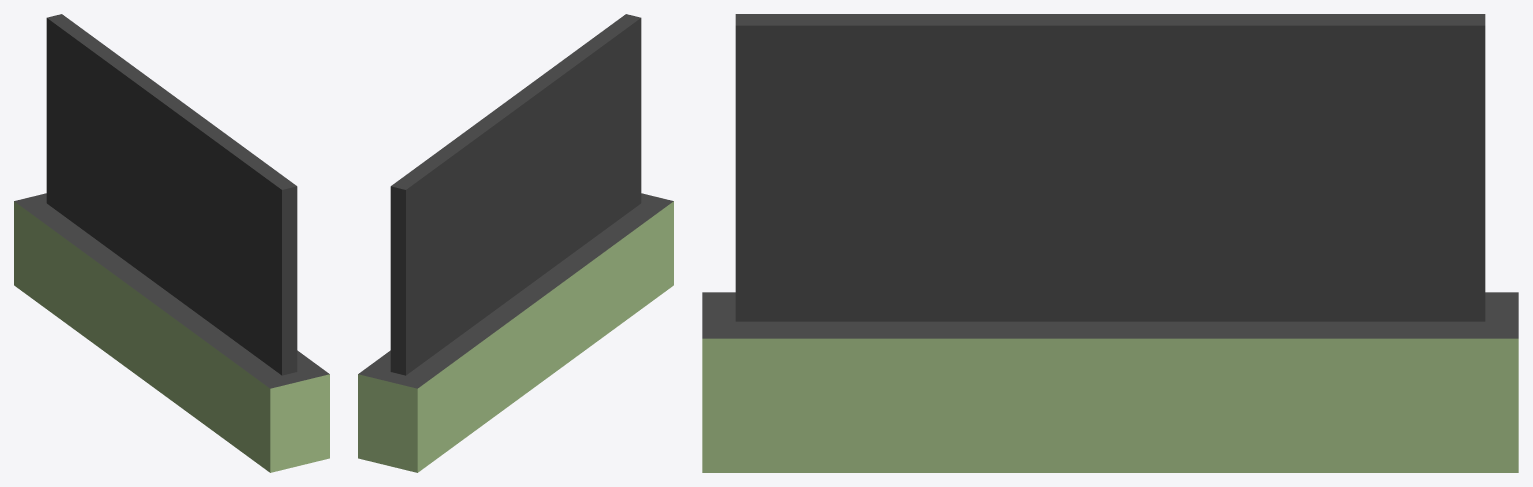
3 views of the same model, side by side, from view 1: azimuth 30°, elevation 25°; view 2: azimuth 150°, elevation 25°; view 3: azimuth 270°, elevation 25° (orthographic). The views are drawn at different scales.
Parts seen in each view (by area): view 1: pCube248, pCube247; view 2: pCube248, pCube247; view 3: pCube248, pCube247.
Part boxes in pixels (x1,y1,x2,y2): pCube248: (46, 14, 297, 375); pCube247: (14, 193, 329, 472); pCube248: (390, 14, 641, 375); pCube247: (358, 193, 673, 472); pCube248: (735, 14, 1485, 321); pCube247: (702, 292, 1518, 472).
Size of the model in its own units: 1.93 by 8.36 by 14.39.
